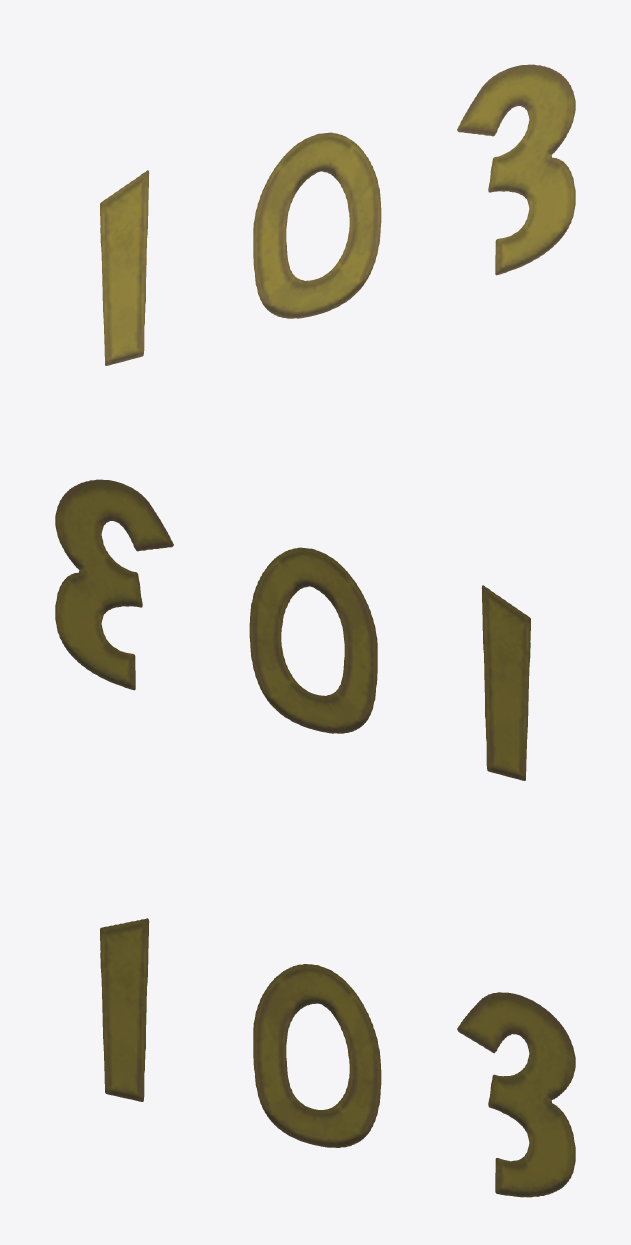
The model's file is roomSign103.FBX.
3 views of the same model, one above another, from view 1: azimuth 30°, elevation 25°; view 2: azimuth 150°, elevation 25°; view 3: azimuth 330°, elevation 25° (orthographic).
Visible parts, largest first — view 1: SM_RoomSign103; view 2: SM_RoomSign103; view 3: SM_RoomSign103.
Boxes of the visible parts, x1,y1,x2,y2 form: SM_RoomSign103: [100, 64, 575, 365]; SM_RoomSign103: [55, 479, 530, 780]; SM_RoomSign103: [100, 918, 575, 1197].
Bounding box in the file's own units: 19.88 × 7.55 × 8.59e-24.
Materials: 1 (1 with a texture image).
